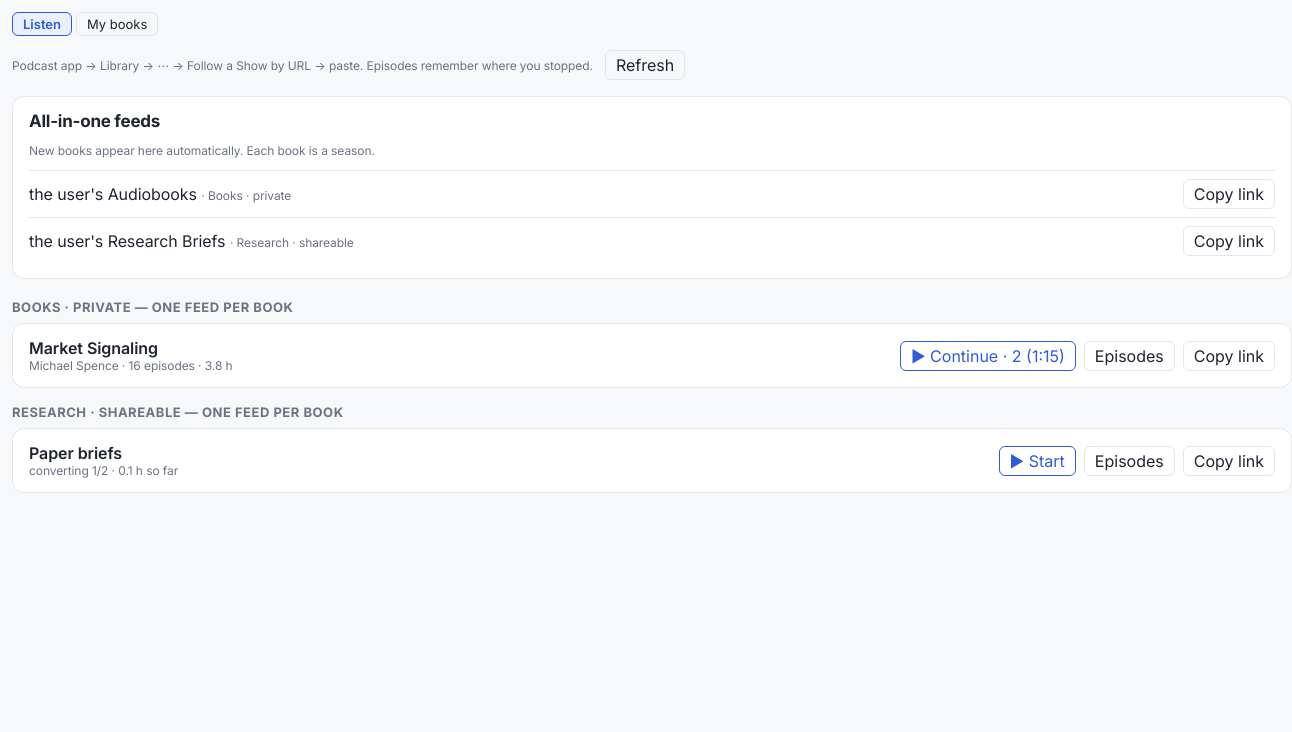
Test case: Audiobooks › falls back to a selectable URL when the clipboard is blocked
This screenshot has width=1292, height=732.
Click the button "Copy link" in the row of "the user's Audiobooks" at [1229, 194], box left=1183, top=179, right=1275, bottom=209
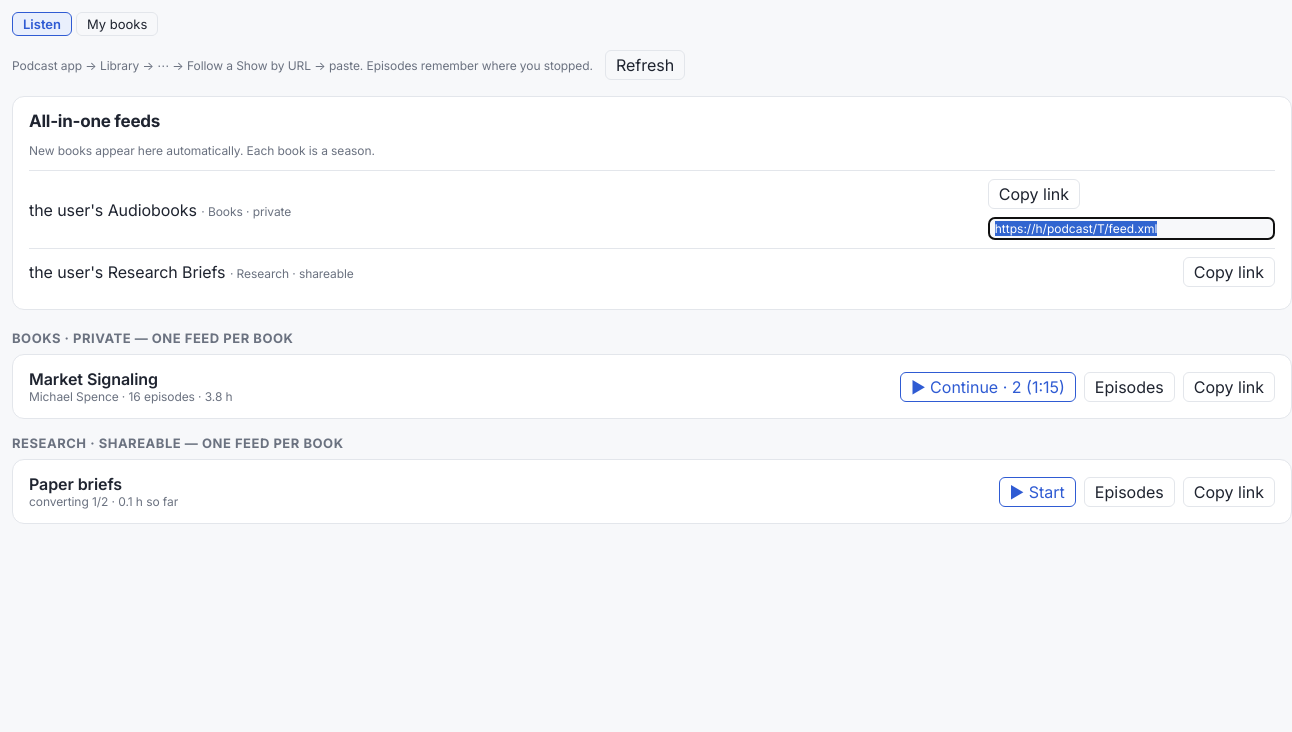
Expected: the field named "Feed URL" holds "https://h/podcast/T/feed.xml", left=988, top=217, right=1275, bottom=240
